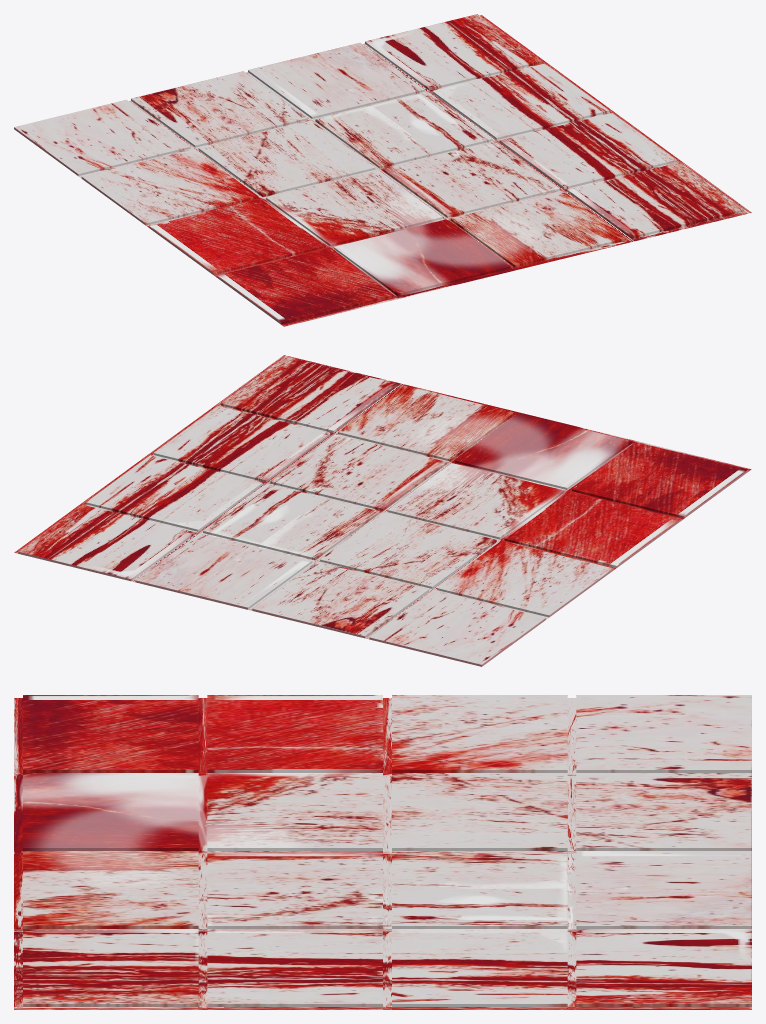
File: Piso_018.fbx
The picture shows the model from 3 angles, top to bottom: view 1: azimuth 30°, elevation 25°; view 2: azimuth 150°, elevation 25°; view 3: azimuth 270°, elevation 25°; orthographic projection. The views are drawn at different scales.
Parts seen in each view (by area): view 1: Plane; view 2: Plane; view 3: Plane.
Boxes of the visible parts, box(x1,y1,x2,y2) form: Plane: box(14, 14, 751, 326); Plane: box(14, 355, 751, 666); Plane: box(14, 695, 751, 1009).
Size of the model in its own units: 600 by 2.51 by 600.
